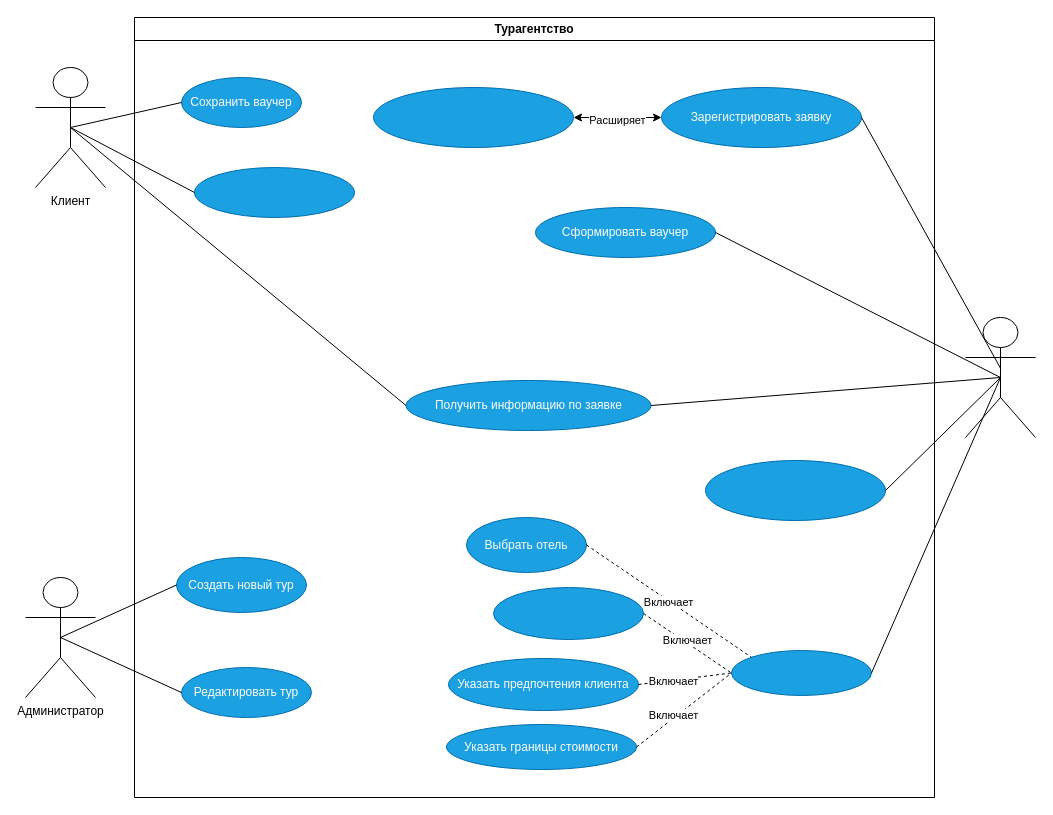
The diagram is 1053 pixels wide and 815 high, and some of its shapes have lost their labels. Each missing label, with the centre of its shape:
Выбрать даты тура: [568,613]
Выбрать дополнительные услуги: [473,117]
Зарегистрировать клиента: [795,490]
Менеджер: [1000,377]
Оставить отзыв об отеле: [274,192]
Подобрать тур: [801,673]
